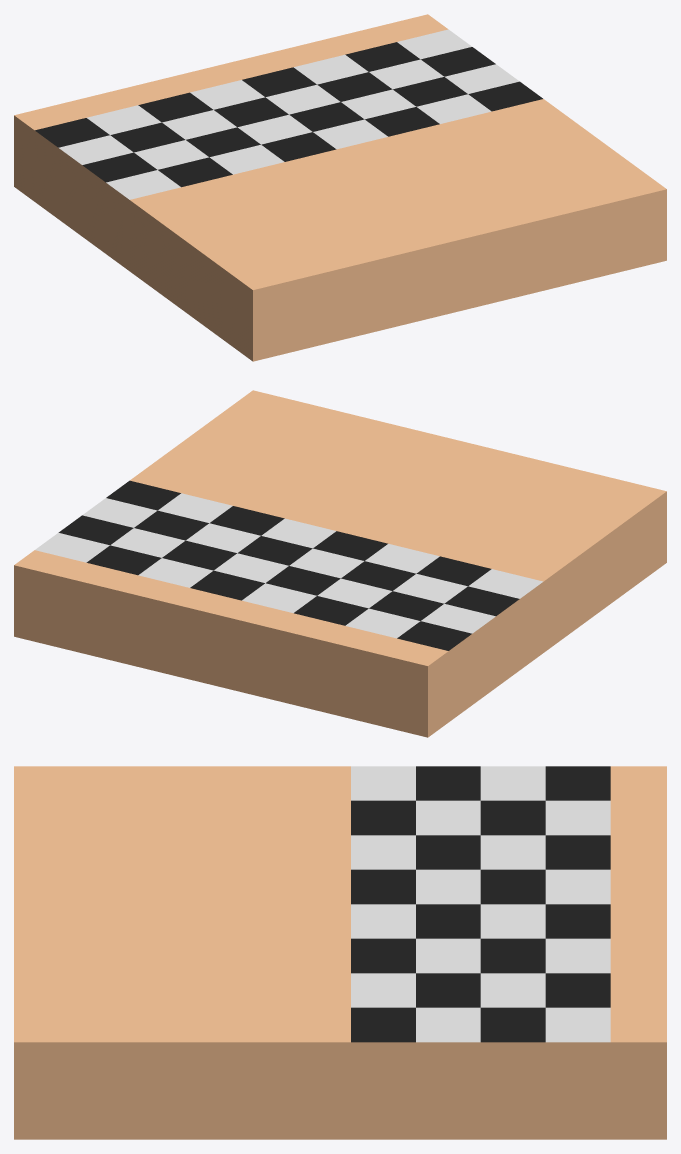
Rendered from Link D Finish Line.fbx.
3 renders of one model, top to bottom at view 1: azimuth 30°, elevation 25°; view 2: azimuth 150°, elevation 25°; view 3: azimuth 270°, elevation 25°, orthographic. The views are drawn at different scales.
Parts seen in each view (by area): view 1: Link D Finish; view 2: Link D Finish; view 3: Link D Finish.
Part boxes in pixels (<box>): Link D Finish: <box>14,14,666,361</box>; Link D Finish: <box>14,390,666,737</box>; Link D Finish: <box>14,766,666,1139</box>.
Bounding box in the file's own units: 300 × 49.49 × 300.
